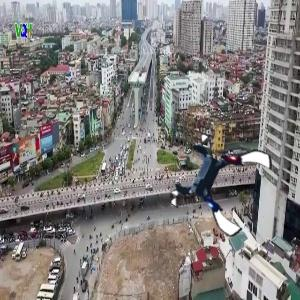drone: (176, 135, 270, 229)
